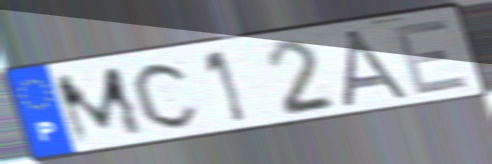1: (202, 47, 250, 124)
2: (265, 37, 339, 118)
A: (338, 26, 418, 110)
C: (129, 59, 204, 131)
E: (389, 15, 473, 98)
M: (50, 62, 149, 147)
